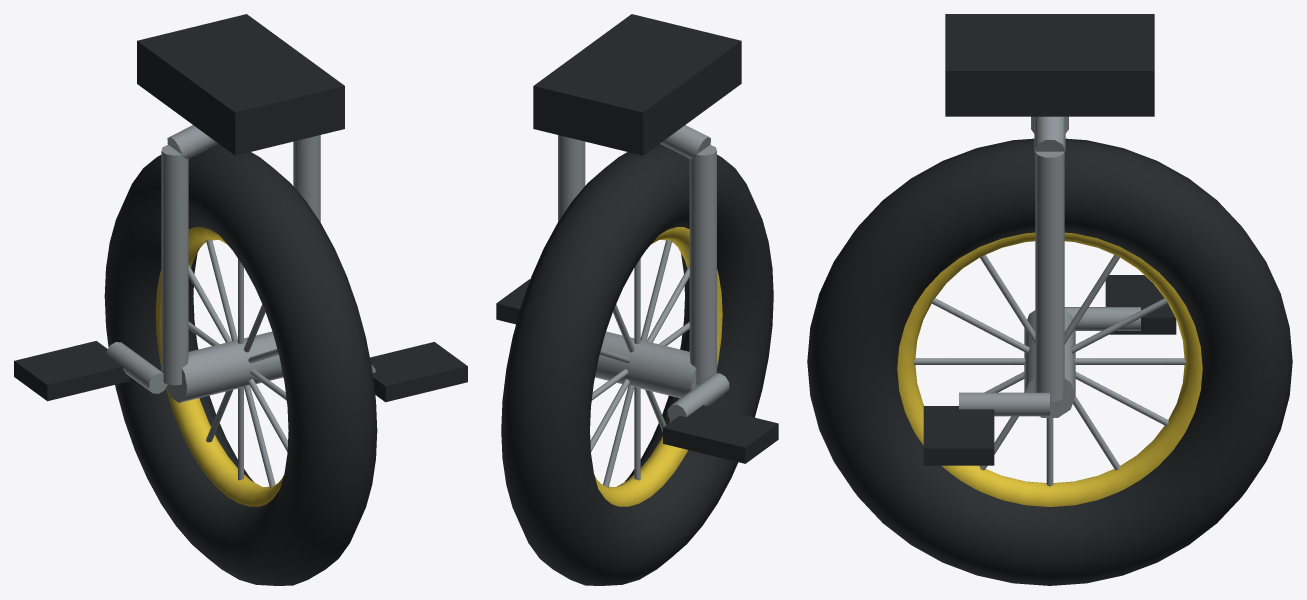
Rendered from unicycle.glb.
The picture shows the model from 3 angles, left to right: view 1: azimuth 30°, elevation 25°; view 2: azimuth 150°, elevation 25°; view 3: azimuth 270°, elevation 25°; orthographic projection. The views are drawn at different scales.
Visible parts, largest first — view 1: unicycle.wheel, saddle, unicycle, pedal.platform (×2), unicycle.crank.-1; view 2: unicycle.wheel, saddle, unicycle, pedal.platform (×2), unicycle.crank.-1; view 3: unicycle.wheel, saddle, unicycle, pedal.platform (×2), unicycle.crank.1, unicycle.crank.-1.
Part boxes in pixels (x1,y1,x2,y2): unicycle.wheel: (104,143,377,585); saddle: (137,14,344,155); unicycle: (161,125,320,385); pedal.platform (×2): (14,341,467,402); unicycle.crank.-1: (106,342,167,393); unicycle.wheel: (501,144,773,585); saddle: (533,14,741,155); unicycle: (558,125,716,384); pedal.platform (×2): (496,279,778,463); unicycle.crank.-1: (667,373,729,421); unicycle.wheel: (807,138,1292,585); saddle: (945,14,1154,116); unicycle: (1031,116,1068,401); pedal.platform (×2): (923,275,1176,465); unicycle.crank.1: (959,392,1049,416); unicycle.crank.-1: (1064,307,1140,330).
Size of the model in its own units: 0.61 by 0.8825 by 0.72.
